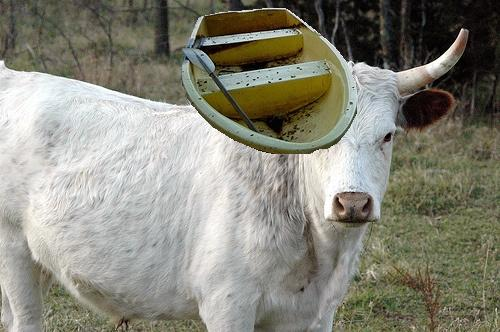tampered: (182, 9, 357, 154)
